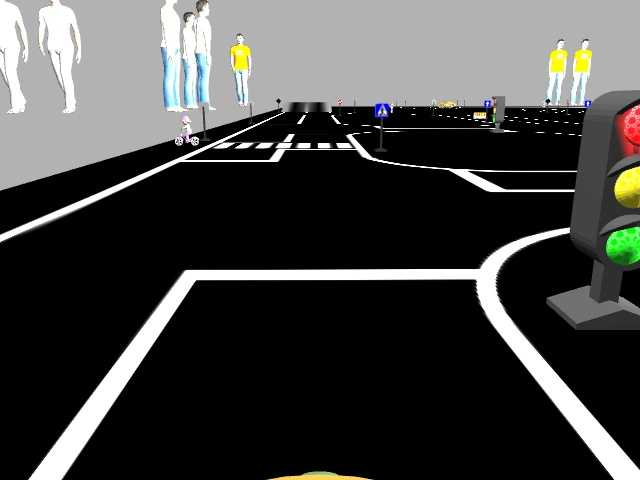Crosswalk: (376, 102, 389, 116)
Pedestrian: (173, 115, 199, 145)
TrafficLight: (572, 89, 639, 264)
